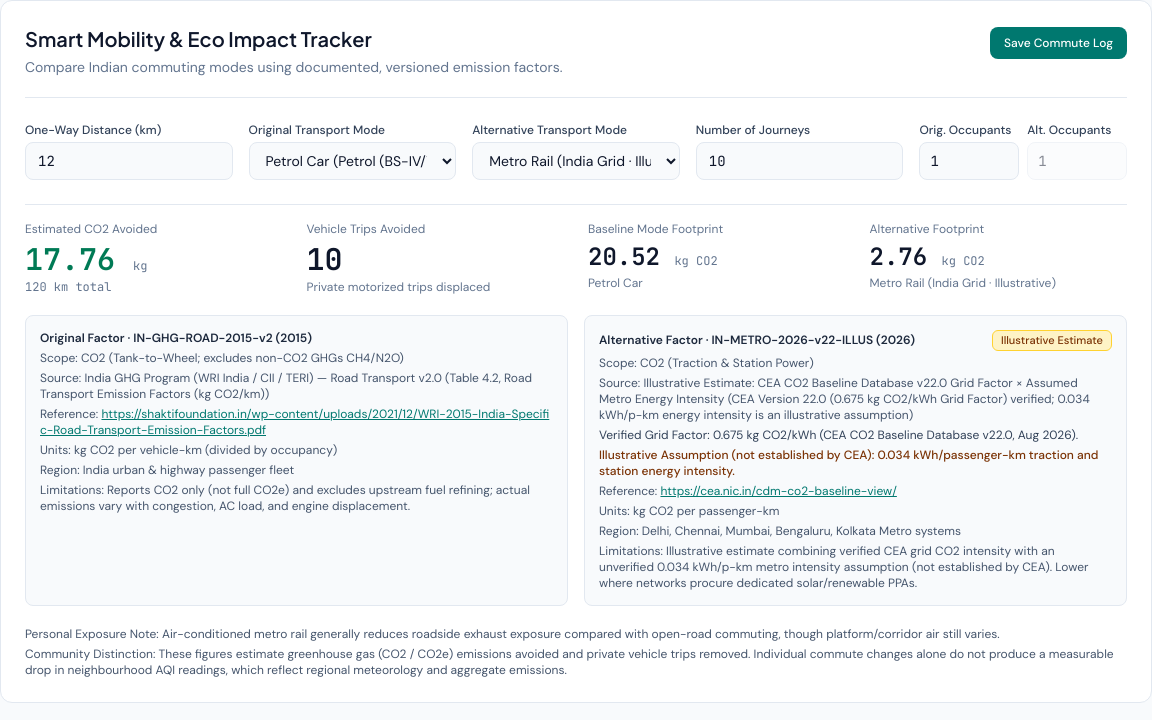
EcoMobilityTracker interactions › announces save failures and restores the action state
The image size is (1152, 720).
Click the button "Save Commute Log": click(1058, 43) [990,27,1127,59]
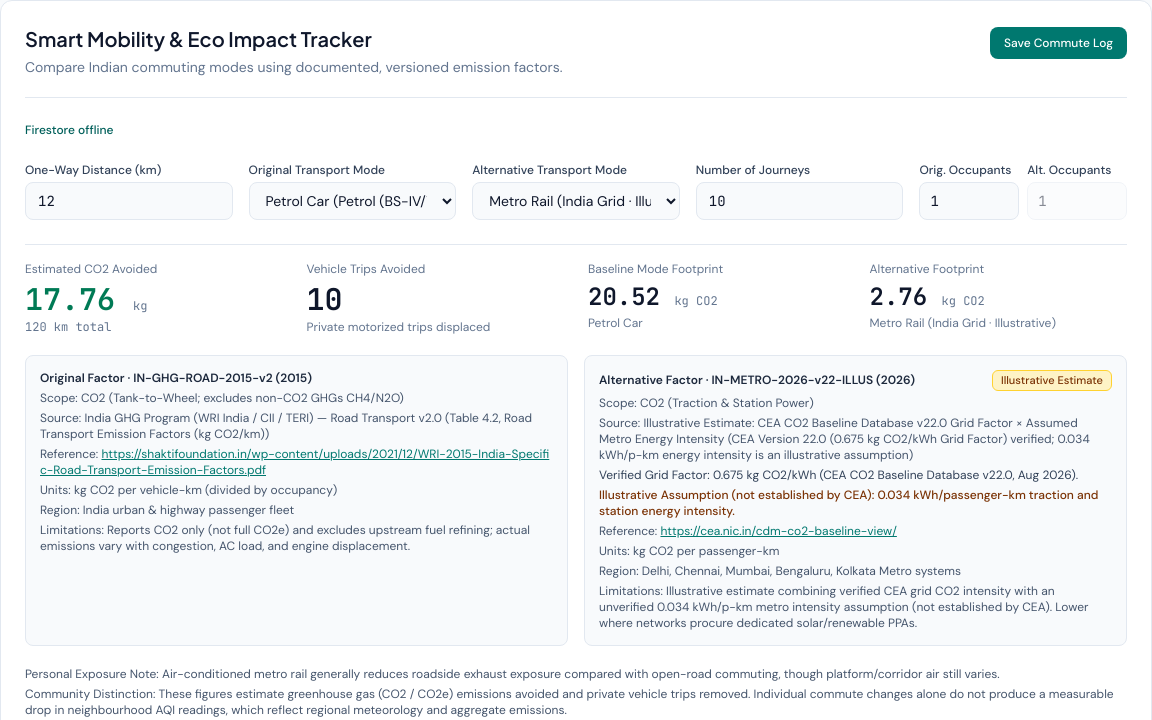
Check: the message reads "Firestore offline", box [25,122,114,138]
